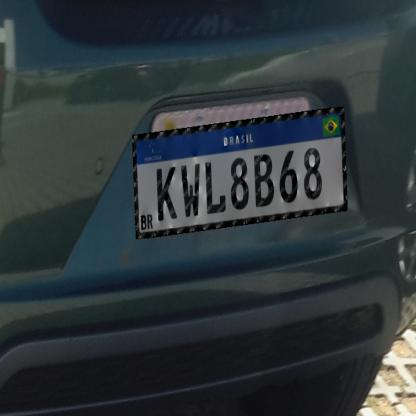PlacaM: (132, 107, 348, 239)
